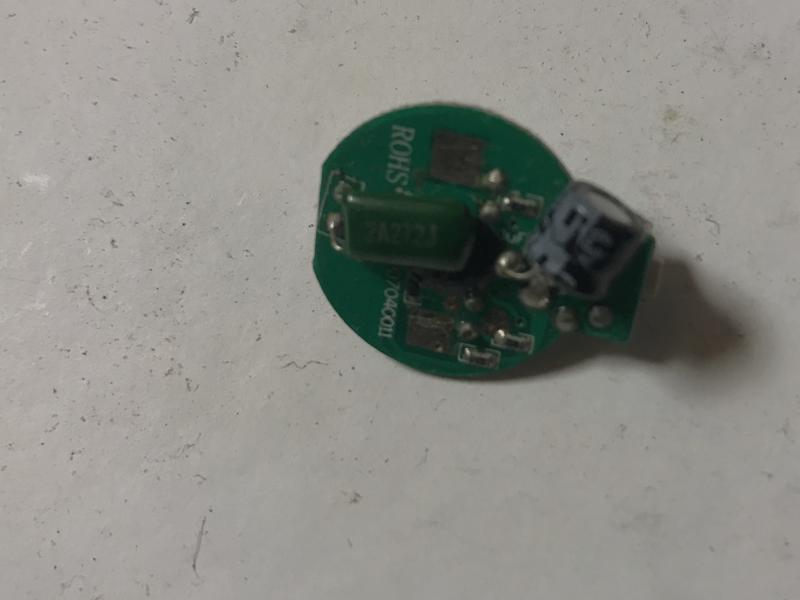Capacitor: (516, 172, 661, 308)
